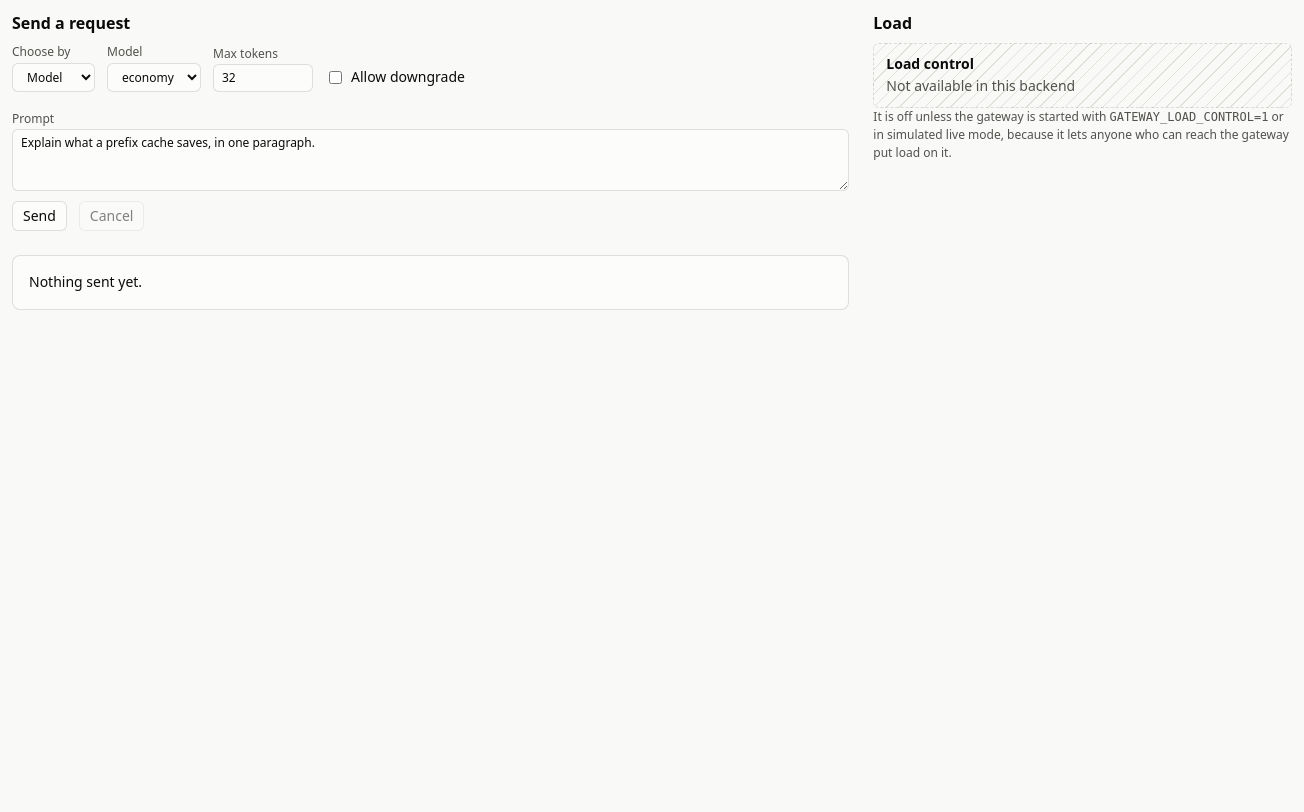
Test: request form › has no application to choose on a gateway without applications, and sends none
Click the button "Send" at x=39, y=216, box left=12, top=201, right=67, bottom=231
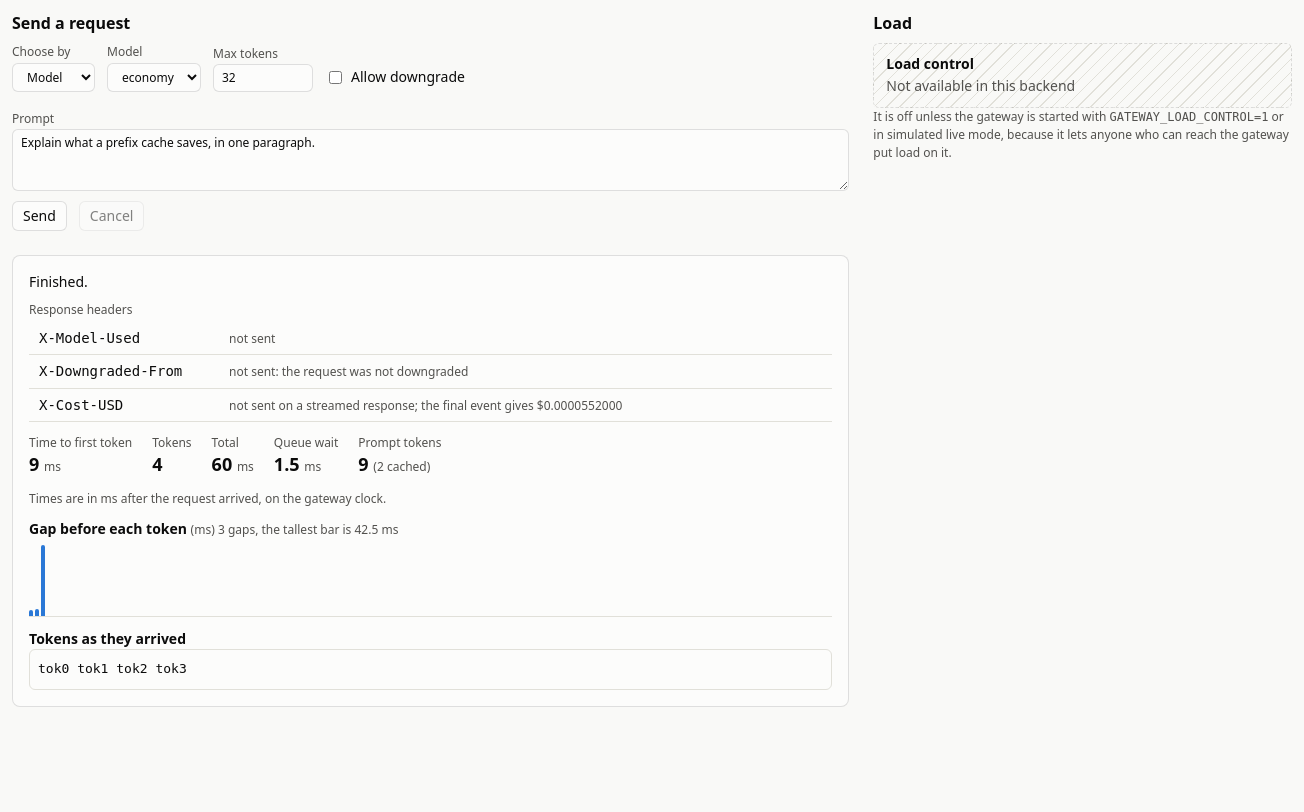
expect the text "Finished." is shown: met, box left=29, top=272, right=88, bottom=291
